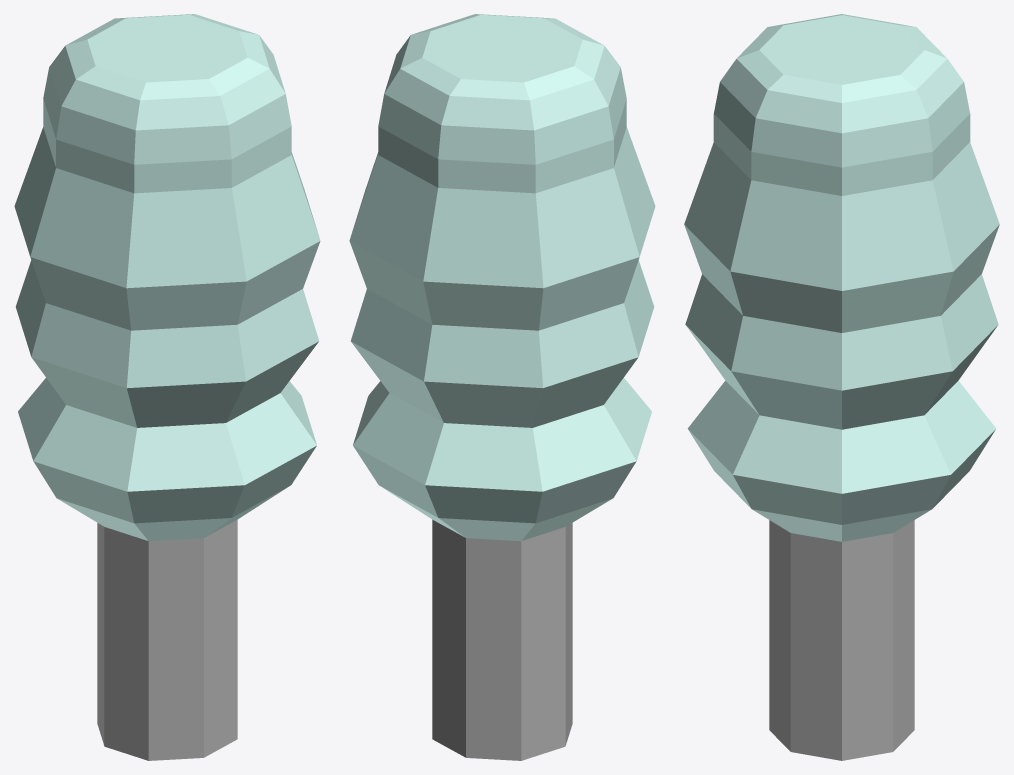
File: CottonCandyPink.fbx
3 views of the same model, side by side, from view 1: azimuth 30°, elevation 25°; view 2: azimuth 150°, elevation 25°; view 3: azimuth 270°, elevation 25° (orthographic).
Visible parts, largest first — view 1: CottonCandyPink; view 2: CottonCandyPink; view 3: CottonCandyPink.
Boxes of the visible parts, <box> form: CottonCandyPink: <box>14,14,320,760</box>; CottonCandyPink: <box>349,14,655,760</box>; CottonCandyPink: <box>684,14,999,760</box>.
Bounding box in the file's own units: 7.32 × 17.39 × 7.32.
